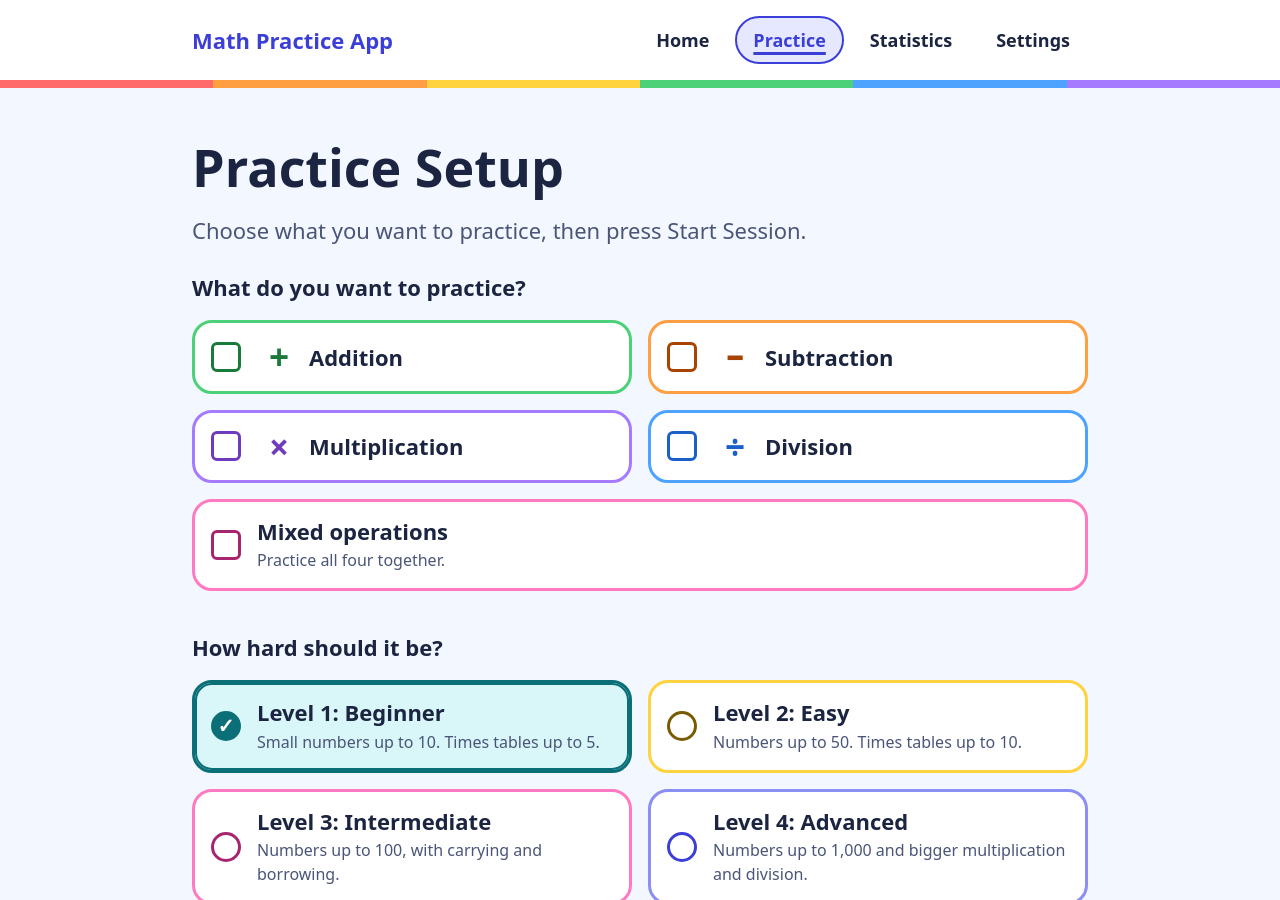
it: PracticeSetupPage › Start Session button › is enabled once an operation is chosen, since a difficulty is always picked
Click the checkbox labelled "Addition": (412, 357) [192, 320, 632, 394]
(page scrolled)
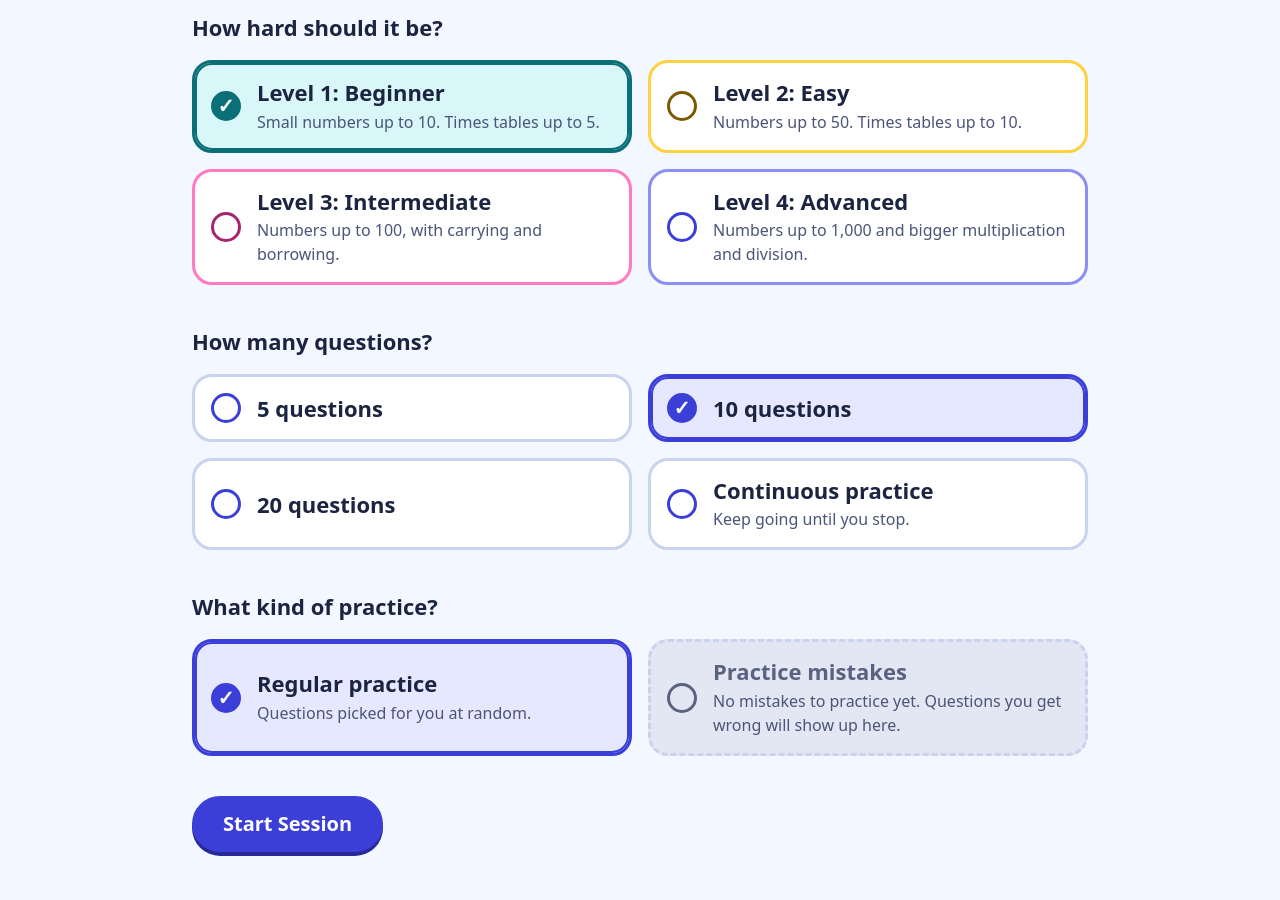
Expected: the button "Start Session" is enabled, [192, 796, 383, 852]
